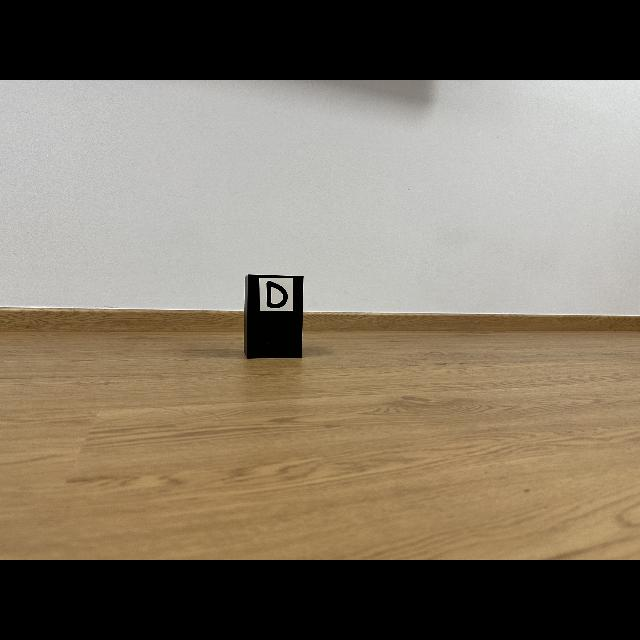D: (266, 280, 288, 309)
